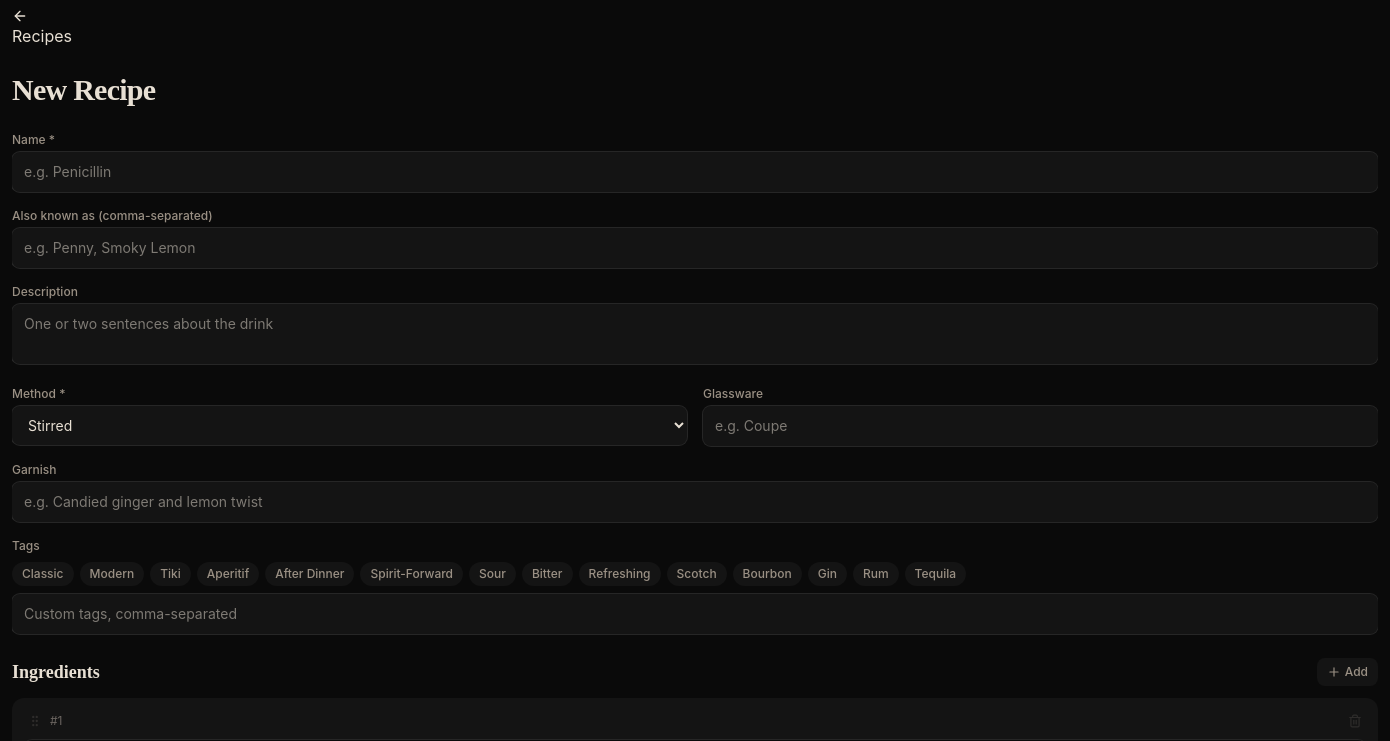
Scenario: RecipeFormPage › new mode › requires both a name and an ingredient before enabling Create
In the field with placeholder "e.g. Penicillin": (695, 172) [12,152,1378,192], type "Gold Rush"
(page scrolled)
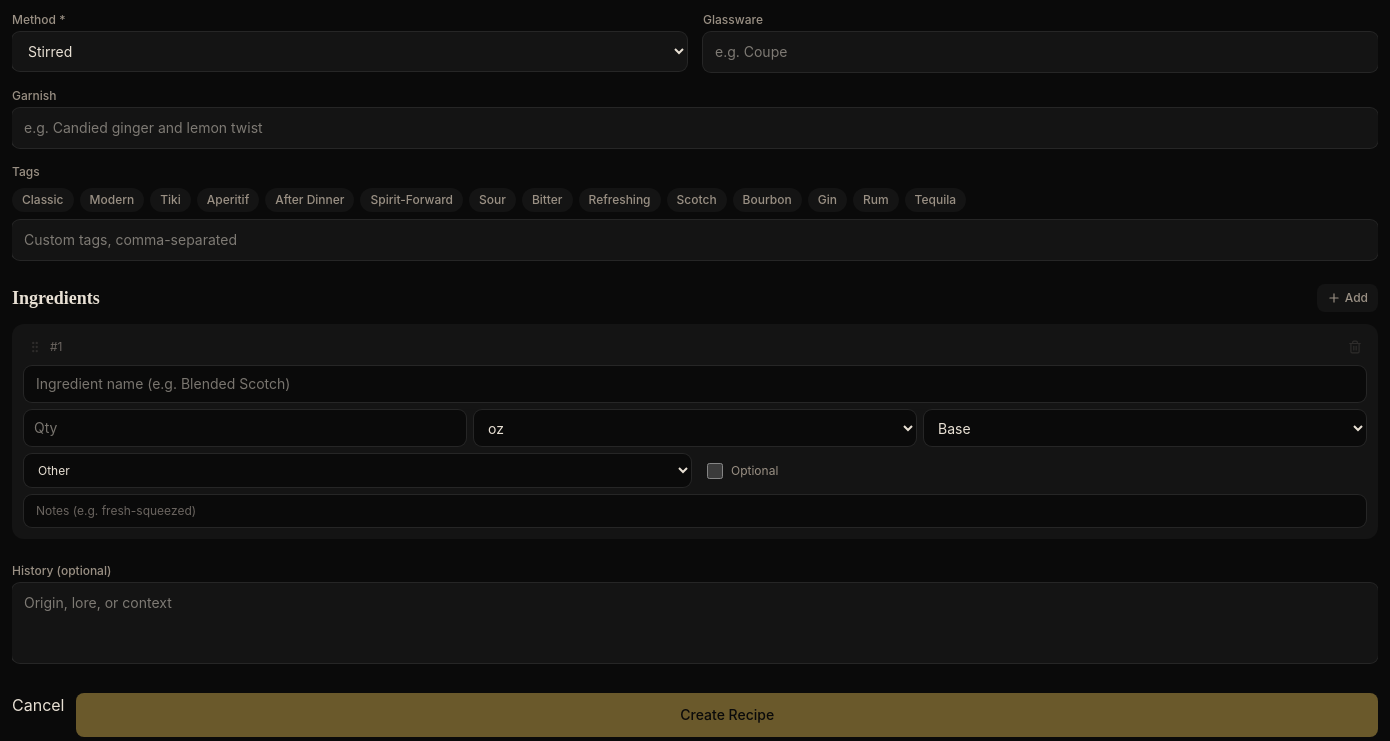
Expected: the button "Create Recipe" is disabled, [76,693,1378,737]
In the field with placeholder "Ingredient name (e.g. Blended Scotch)": (695, 384) [24,366,1366,402], type "Bourbon"
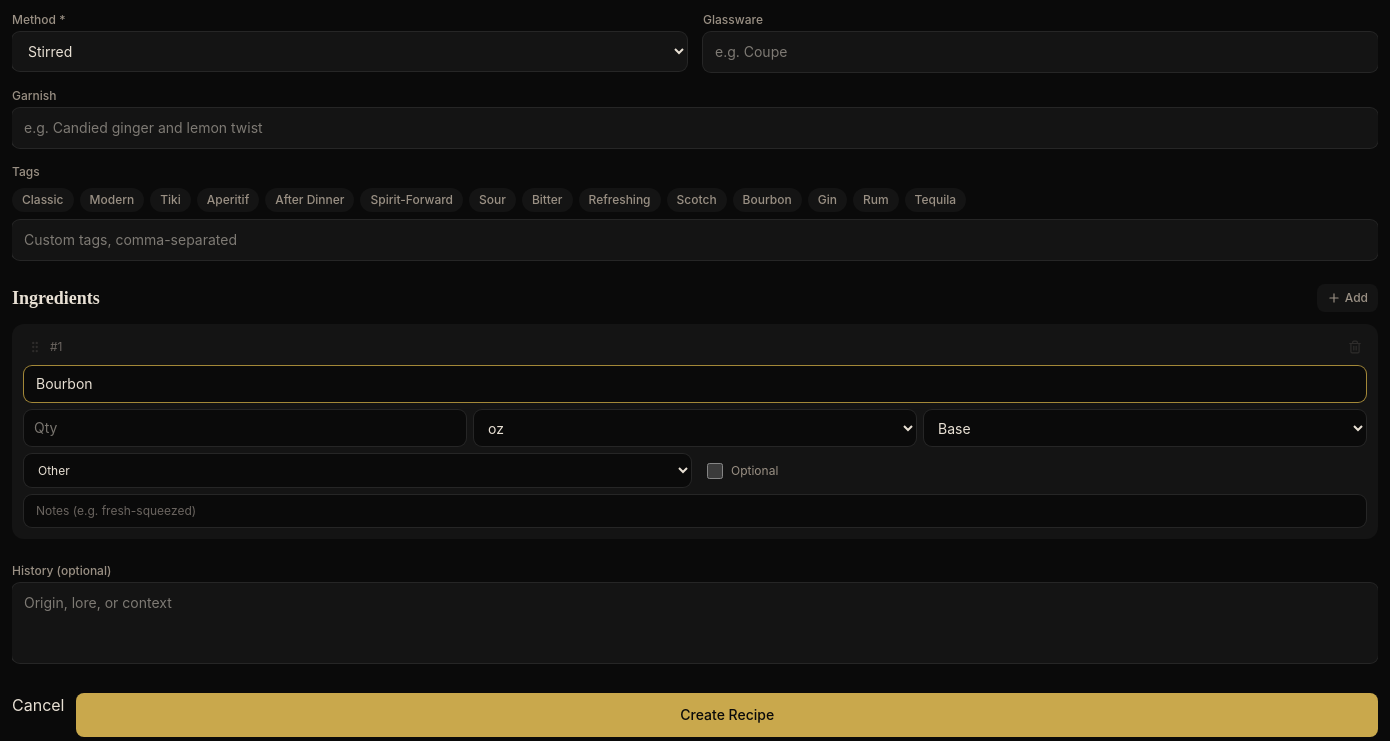
Result: the button "Create Recipe" is enabled at [76,693,1378,737]
